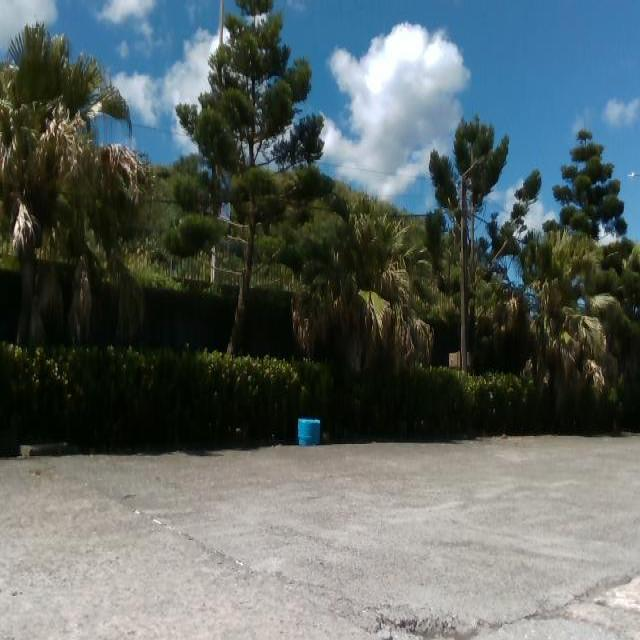pollute: (296, 415, 323, 452)
